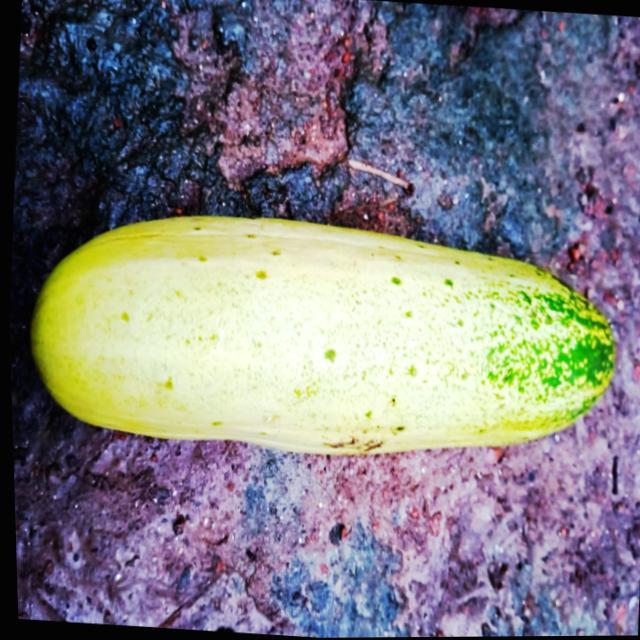Fresh-Cucumber: (14, 196, 623, 480)
